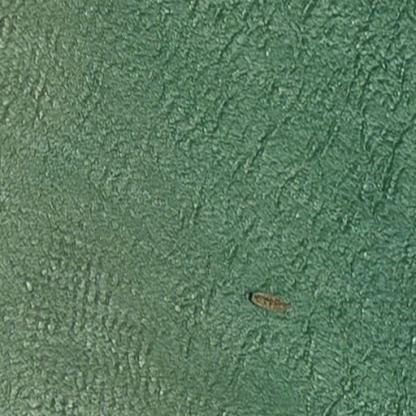ship: (242, 282, 293, 319)
